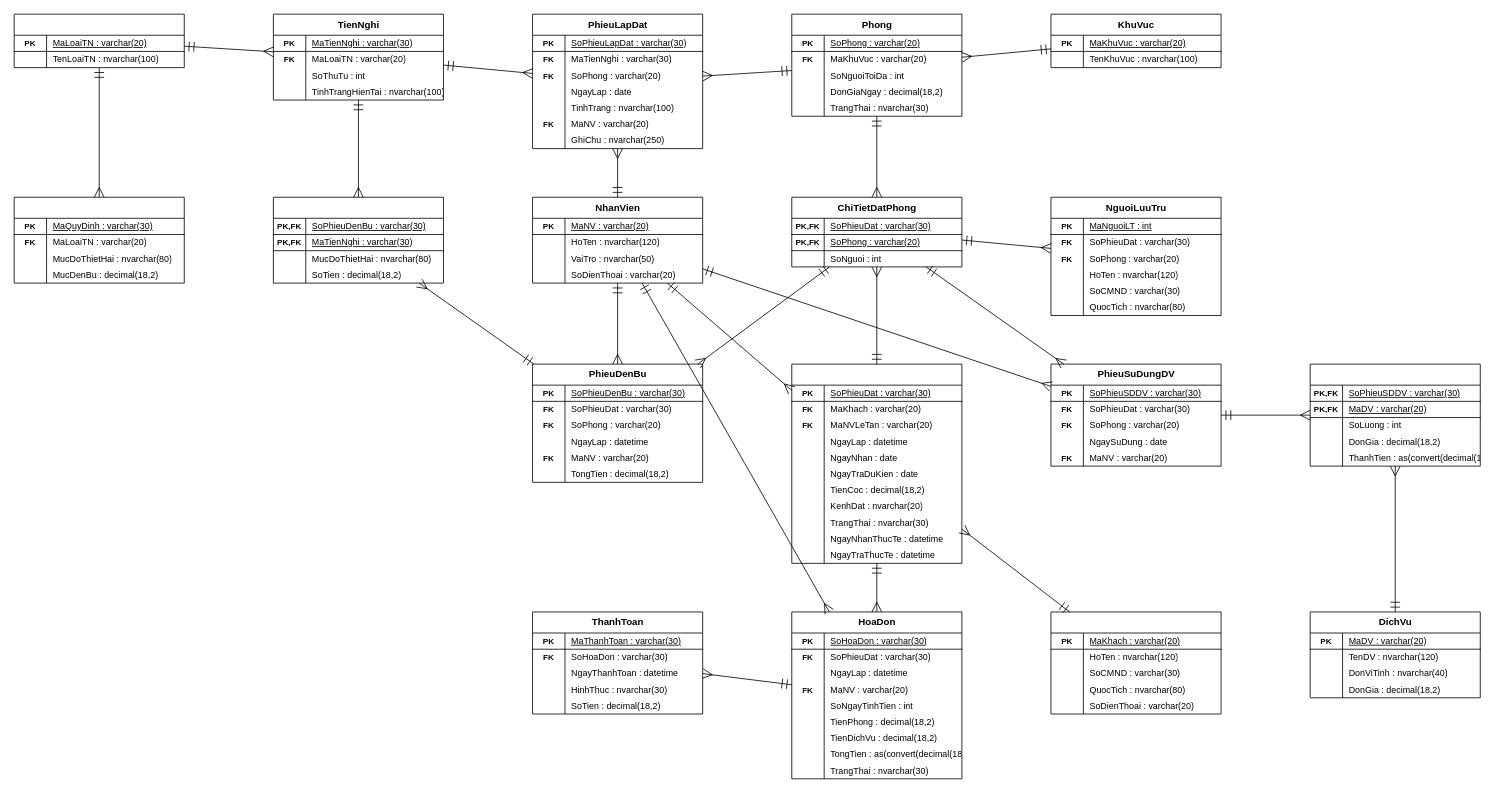
Some shapes in this 1511 by 793 pixel diagram are drawn without their labels. The shapes that lost their labels are listed below. From the top down, each one's box as (x1, y1, x2, y2) in pixels, then its label:
(13, 13, 184, 68): LoaiTienNghi
(13, 196, 184, 283): QuyDinhDenBu
(273, 196, 443, 283): ChiTietPhieuDenBu
(1309, 363, 1480, 466): ChiTietPhieuSuDungDV
(791, 363, 962, 563): PhieuDatPhong
(1050, 611, 1221, 714): KhachHang
